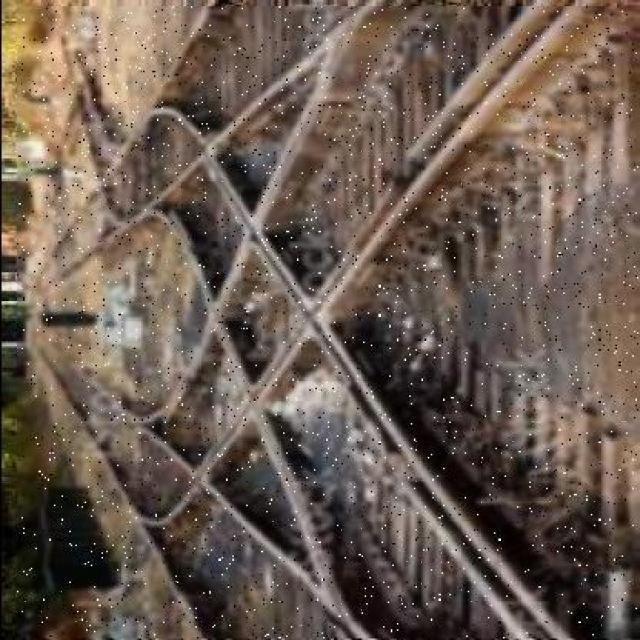rail: (17, 8, 638, 639)
